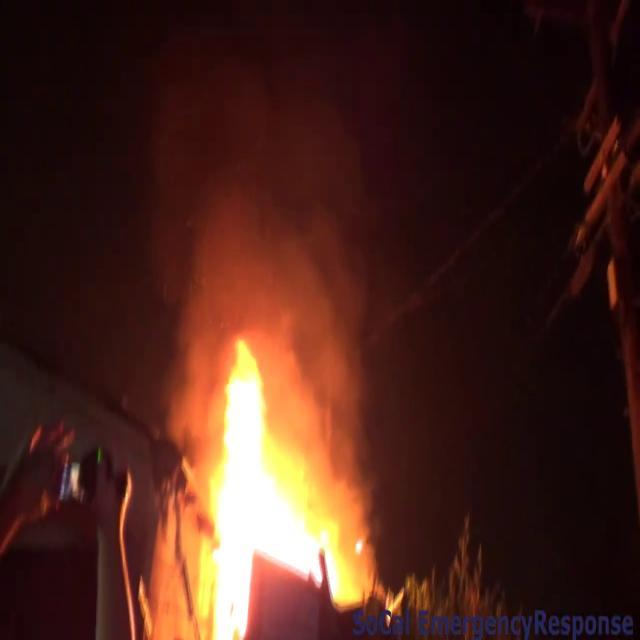Fire: (187, 323, 363, 638)
Smoke: (138, 9, 374, 416)
